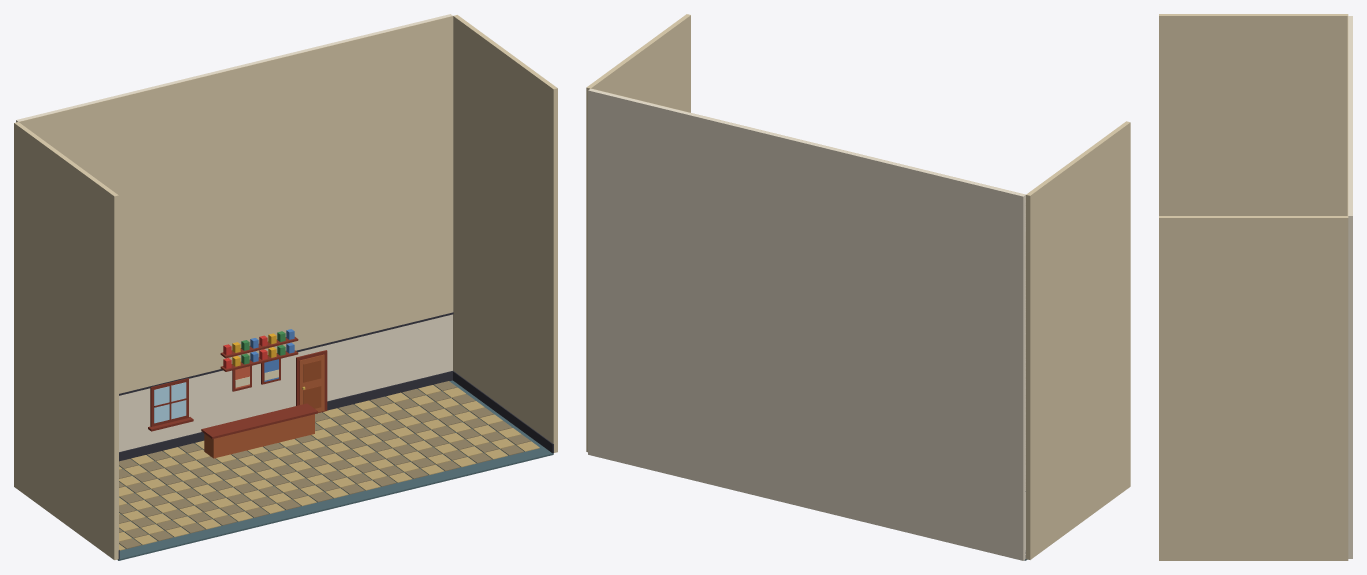
File: room_japao_shop.glb
The picture shows the model from 3 angles, left to right: view 1: azimuth 30°, elevation 25°; view 2: azimuth 150°, elevation 25°; view 3: azimuth 270°, elevation 25°; orthographic projection. The views are drawn at different scales.
Parts seen in each view (by area): view 1: room; view 2: room; view 3: room.
Part boxes in pixels (x1,y1,x2,y2): room: (14,14,557,560); room: (586,14,1130,560); room: (1159,14,1352,560).
Bounding box in the file's own units: 30.6 × 24.11 × 12.3.
